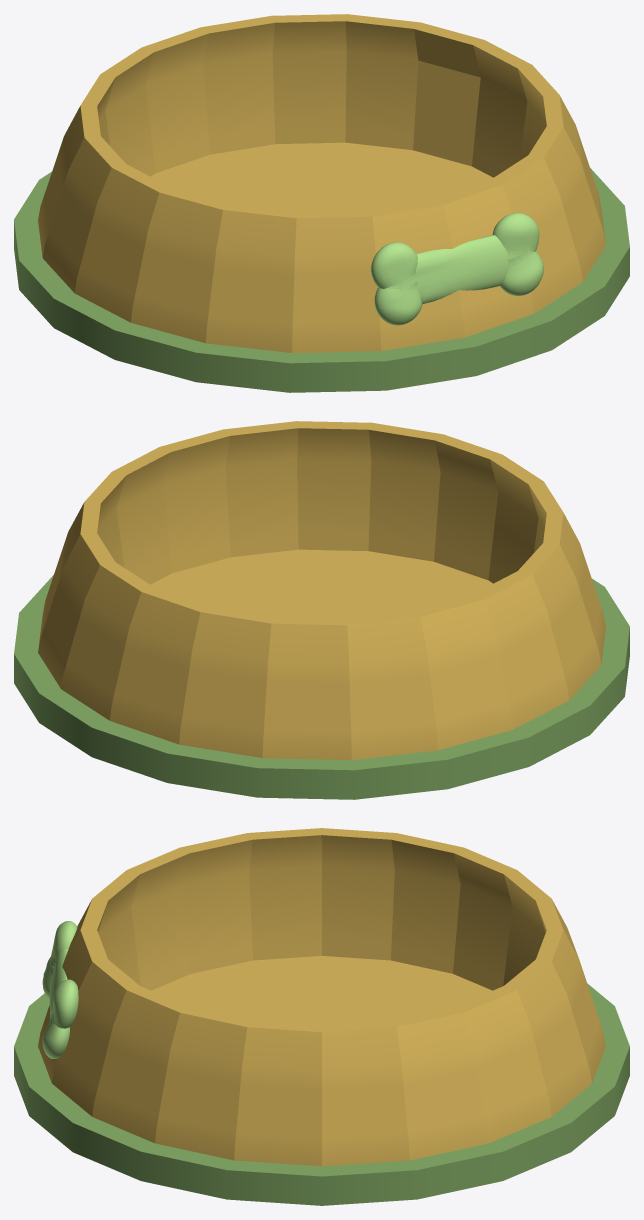
The model's file is Bowl.fbx.
The picture shows the model from 3 angles, top to bottom: view 1: azimuth 30°, elevation 25°; view 2: azimuth 150°, elevation 25°; view 3: azimuth 270°, elevation 25°; orthographic projection.
Parts seen in each view (by area): view 1: bone; view 2: bone; view 3: bone.
Part boxes in pixels (left/top/right/bottom): bone: left=14, top=14, right=629, bottom=392; bone: left=14, top=421, right=629, bottom=799; bone: left=14, top=828, right=629, bottom=1205.
Size of the model in its own units: 3.26 by 0.8505 by 3.26.
